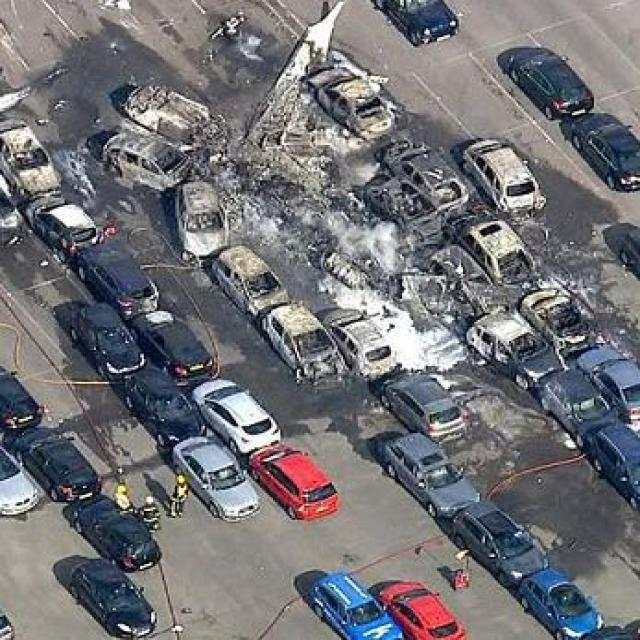traffic_incident: (59, 62, 622, 401), (452, 118, 559, 221), (107, 62, 214, 148), (303, 64, 412, 138), (372, 134, 468, 218), (258, 302, 341, 394), (468, 302, 557, 382), (199, 242, 293, 317), (516, 267, 602, 348), (96, 131, 205, 194), (323, 297, 402, 378), (352, 166, 433, 242), (461, 207, 533, 292), (175, 177, 240, 267), (0, 109, 55, 214), (432, 248, 479, 318)
